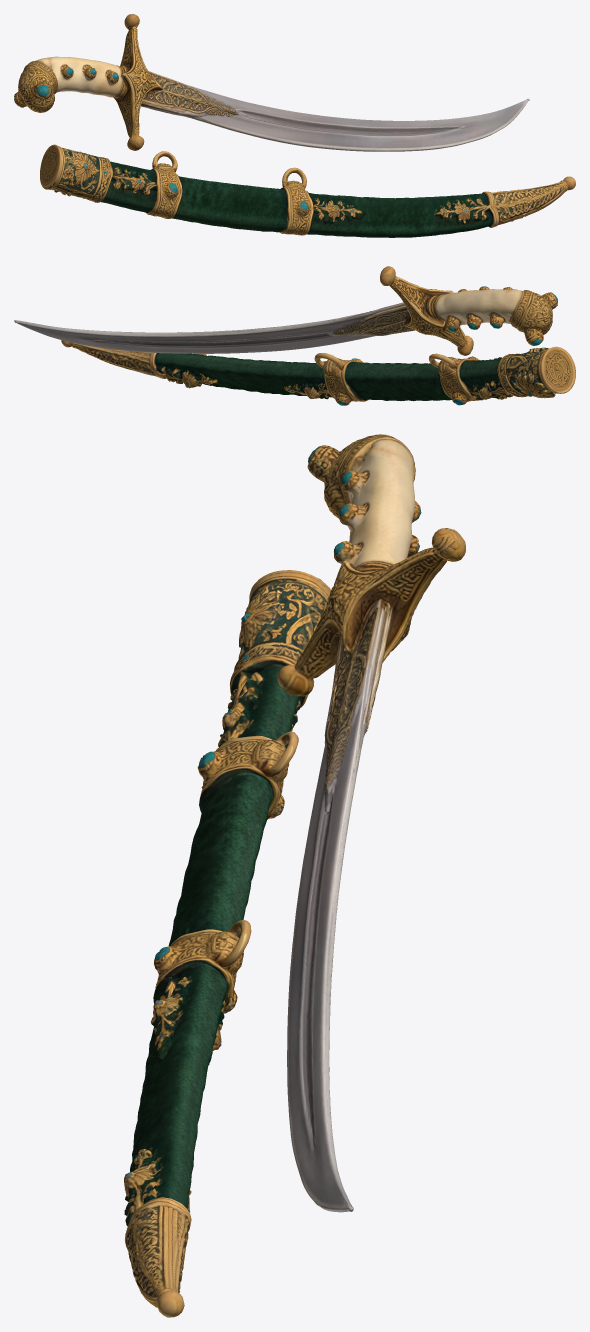
File: Tören kılıcı.glb
3 renders of one model, top to bottom at view 1: azimuth 30°, elevation 25°; view 2: azimuth 150°, elevation 25°; view 3: azimuth 270°, elevation 25°, orthographic. The views are drawn at different scales.
Parts seen in each view (by area): view 1: tripo_node_d964806f-e1ea-4ce4-b1c9-9f51aa33ee9f; view 2: tripo_node_d964806f-e1ea-4ce4-b1c9-9f51aa33ee9f; view 3: tripo_node_d964806f-e1ea-4ce4-b1c9-9f51aa33ee9f.
Part boxes in pixels (x1,y1,x2,y2): tripo_node_d964806f-e1ea-4ce4-b1c9-9f51aa33ee9f: [14, 14, 575, 237]; tripo_node_d964806f-e1ea-4ce4-b1c9-9f51aa33ee9f: [14, 266, 575, 405]; tripo_node_d964806f-e1ea-4ce4-b1c9-9f51aa33ee9f: [124, 434, 465, 1317].
Size of the model in its own units: 0.9791 by 0.4205 by 0.2874.
Materials: 1 (1 with a texture image).
